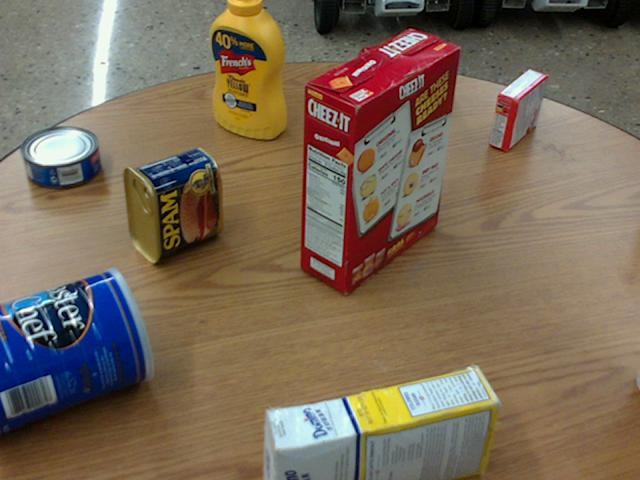cracker_box: (300, 28, 457, 292)
gelatin_box: (489, 70, 548, 151)
master_chef_can: (0, 267, 152, 431)
mug: (355, 32, 434, 108)
mustard_bottle: (208, 0, 284, 138)
potted_meat_can: (121, 146, 219, 262)
sugar_box: (259, 366, 498, 479)
tomato_soup_can: (635, 361, 639, 391)
tuna_fish_can: (22, 125, 99, 186)
